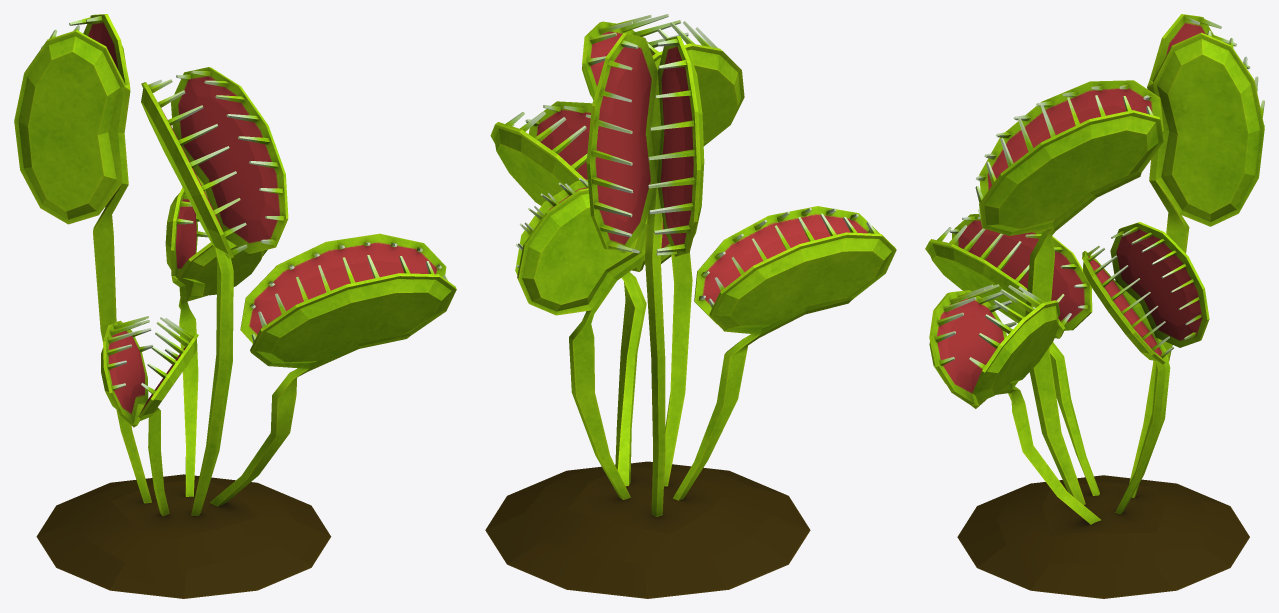
The model's file is VenusFlyTrap.obj.
The picture shows the model from 3 angles, left to right: view 1: azimuth 30°, elevation 25°; view 2: azimuth 150°, elevation 25°; view 3: azimuth 270°, elevation 25°; orthographic projection. The views are drawn at different scales.
Visible parts, largest first — view 1: VenusFlyTrap_mesh; view 2: VenusFlyTrap_mesh; view 3: VenusFlyTrap_mesh.
Boxes of the visible parts, x1=… form: VenusFlyTrap_mesh: x1=14, y1=14, x2=456, y2=598; VenusFlyTrap_mesh: x1=485, y1=14, x2=896, y2=598; VenusFlyTrap_mesh: x1=925, y1=14, x2=1264, y2=598.
Size of the model in its own units: 8.08 by 10.81 by 6.79.
Materials: 1 (1 with a texture image).
